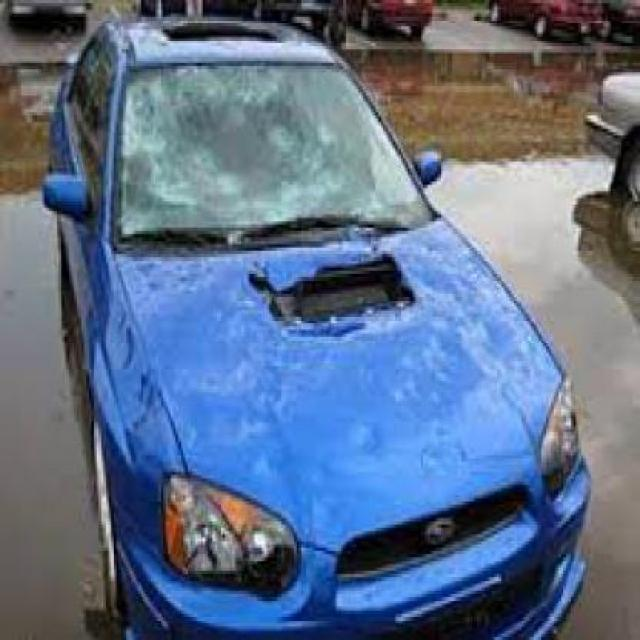damaged-hood: (115, 245, 557, 548)
